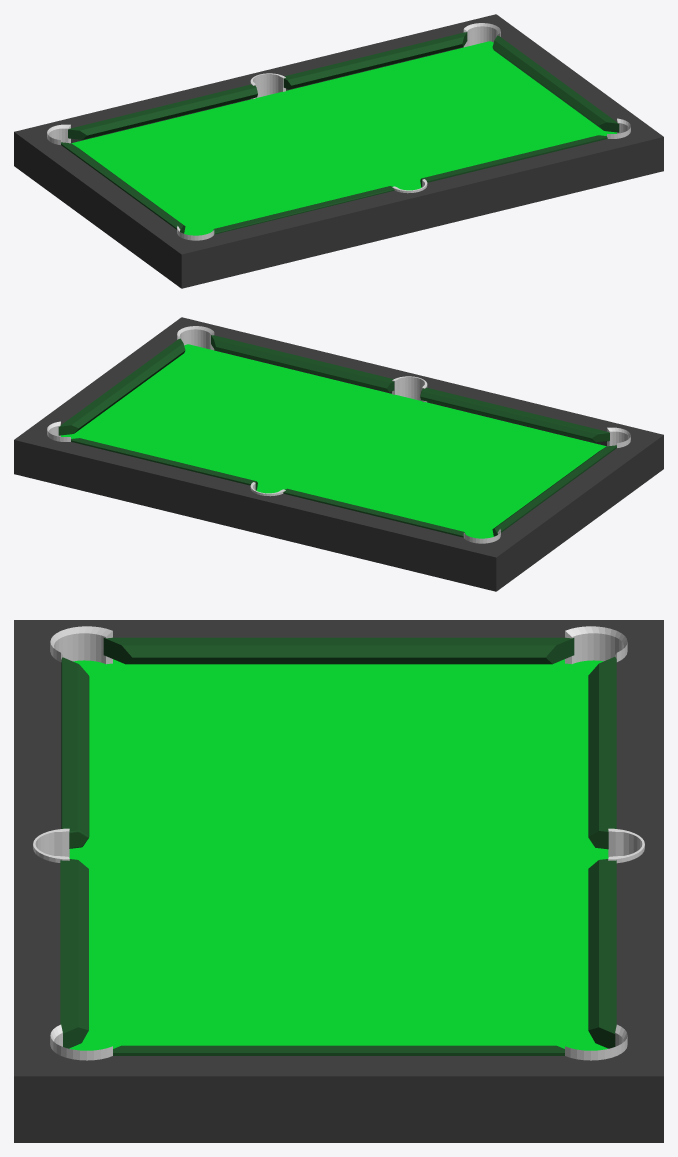
File: pool_table.glb
The picture shows the model from 3 angles, top to bottom: view 1: azimuth 30°, elevation 25°; view 2: azimuth 150°, elevation 25°; view 3: azimuth 270°, elevation 25°; orthographic projection. The views are drawn at different scales.
Visible parts, largest first — view 1: felt, wood.009, wood.008, wood.006, wood.007, rail, rail.001, rail.002, rail.006, rail.004, rail.005, felt.001 (+2 smaller); view 2: felt, wood.006, wood.007, wood.009, wood.008, rail.004, rail.005, rail.002, rail.006, rail.001, rail, felt.001 (+2 smaller); view 3: felt, wood.007, wood.008, wood.009, wood.006, rail.006, rail.001, rail.004, rail, rail.005, rail.002, wood.005 (+6 smaller).
Boxes of the visible parts, x1,y1,x2,y2 form: felt: (73, 43, 609, 235); wood.009: (97, 188, 422, 288); wood.008: (418, 75, 663, 229); wood.006: (14, 73, 257, 226); wood.007: (255, 14, 579, 90); rail: (68, 84, 257, 139); rail.001: (283, 32, 467, 89); rail.002: (492, 35, 619, 132); rail.006: (61, 142, 185, 233); rail.004: (420, 135, 607, 187); rail.005: (213, 186, 394, 234); felt.001: (71, 41, 616, 189); felt: (68, 346, 604, 538); wood.006: (255, 491, 580, 591); wood.007: (14, 378, 259, 532); wood.009: (420, 376, 663, 529); wood.008: (98, 317, 422, 393); rail.004: (211, 335, 394, 392); rail.005: (420, 387, 609, 442); rail.002: (58, 338, 185, 435); rail.006: (492, 445, 616, 536); rail.001: (71, 438, 257, 490); rail: (283, 488, 465, 537); felt.001: (61, 344, 606, 492); felt: (82, 664, 595, 1050); wood.007: (339, 848, 663, 1142); wood.008: (14, 848, 338, 1142); wood.009: (14, 620, 338, 848); wood.006: (339, 620, 663, 848); rail.006: (103, 637, 574, 664); rail.001: (588, 859, 616, 1048); rail.004: (60, 859, 88, 1048); rail: (588, 657, 616, 849); rail.005: (61, 657, 89, 848); rail.002: (113, 1045, 564, 1055); wood.005: (50, 626, 112, 664).
Size of the model in its own units: 15.16 by 1.18 by 9.13.
